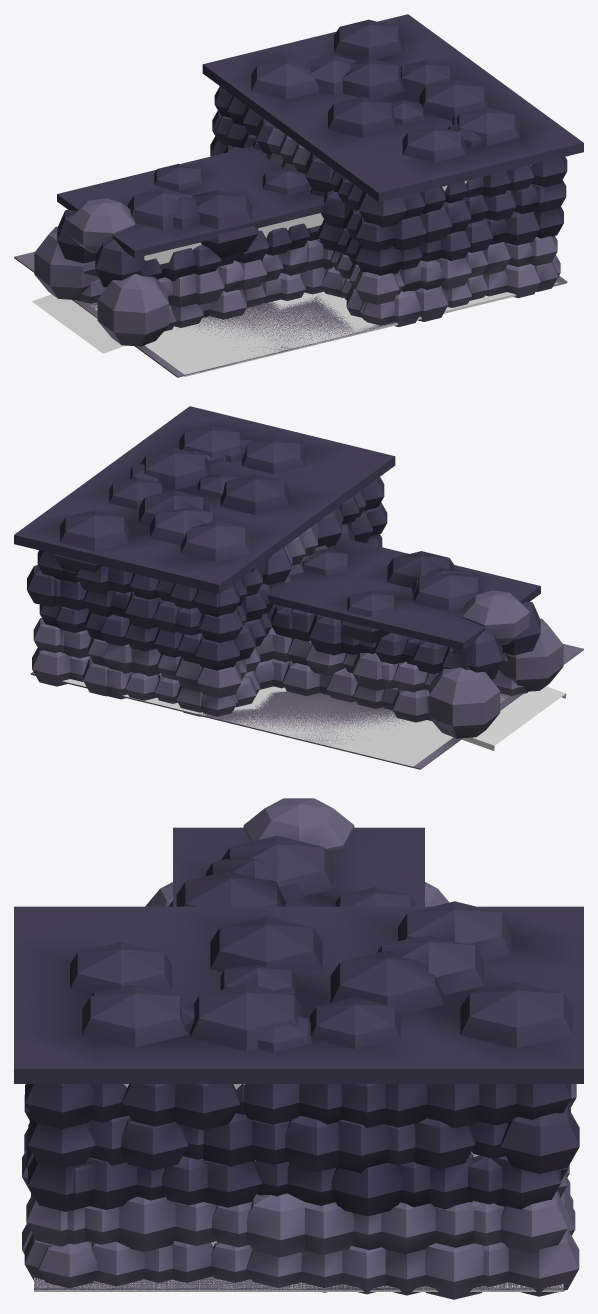
File: cave.glb
3 views of the same model, one above another, from view 1: azimuth 30°, elevation 25°; view 2: azimuth 150°, elevation 25°; view 3: azimuth 270°, elevation 25° (orthographic). The views are drawn at different scales.
Parts seen in each view (by area): view 1: cave, COL_0, COL_1, COL_9; view 2: cave, COL_0, COL_1; view 3: cave, COL_0.
Boxes of the visible parts, x1,y1,x2,y2 form: cave: [14, 14, 583, 377]; COL_0: [90, 282, 567, 376]; COL_1: [32, 294, 125, 353]; COL_9: [144, 213, 323, 264]; cave: [14, 406, 583, 769]; COL_0: [62, 673, 508, 766]; COL_1: [462, 686, 566, 750]; cave: [14, 798, 583, 1299]; COL_0: [34, 1277, 563, 1291].
Bounding box in the file's own units: 24.23 × 9.26 × 17.2.
